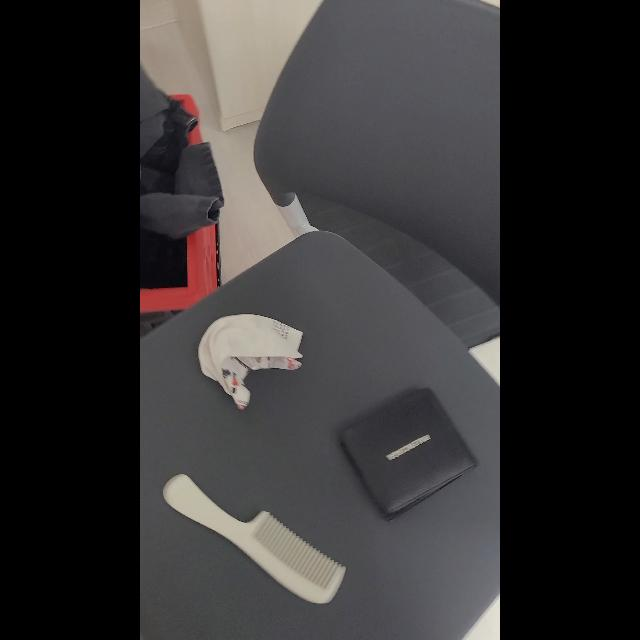COMB: (163, 475, 347, 605)
Glasses cleaning cloth: (198, 314, 302, 412)
WALLET: (335, 385, 479, 521)
